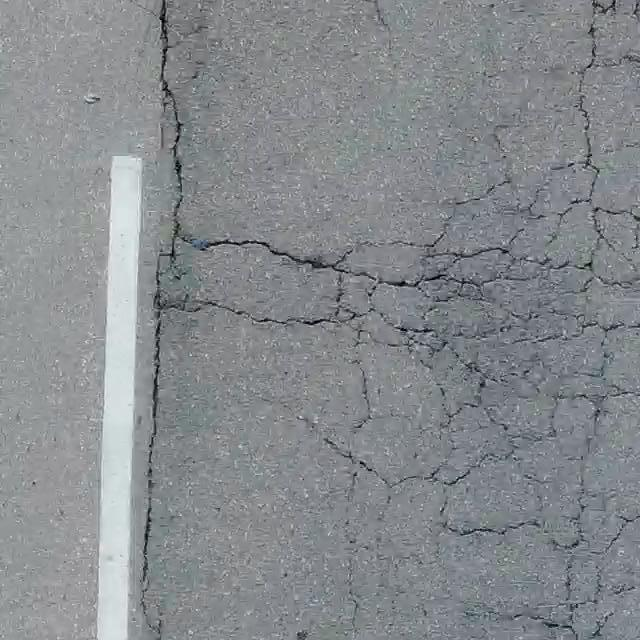GRIETA: (140, 312, 163, 639), (159, 0, 186, 221), (181, 236, 329, 268), (166, 300, 312, 325), (153, 225, 181, 309)
PIEL DE COCODRILO: (309, 0, 639, 639)
